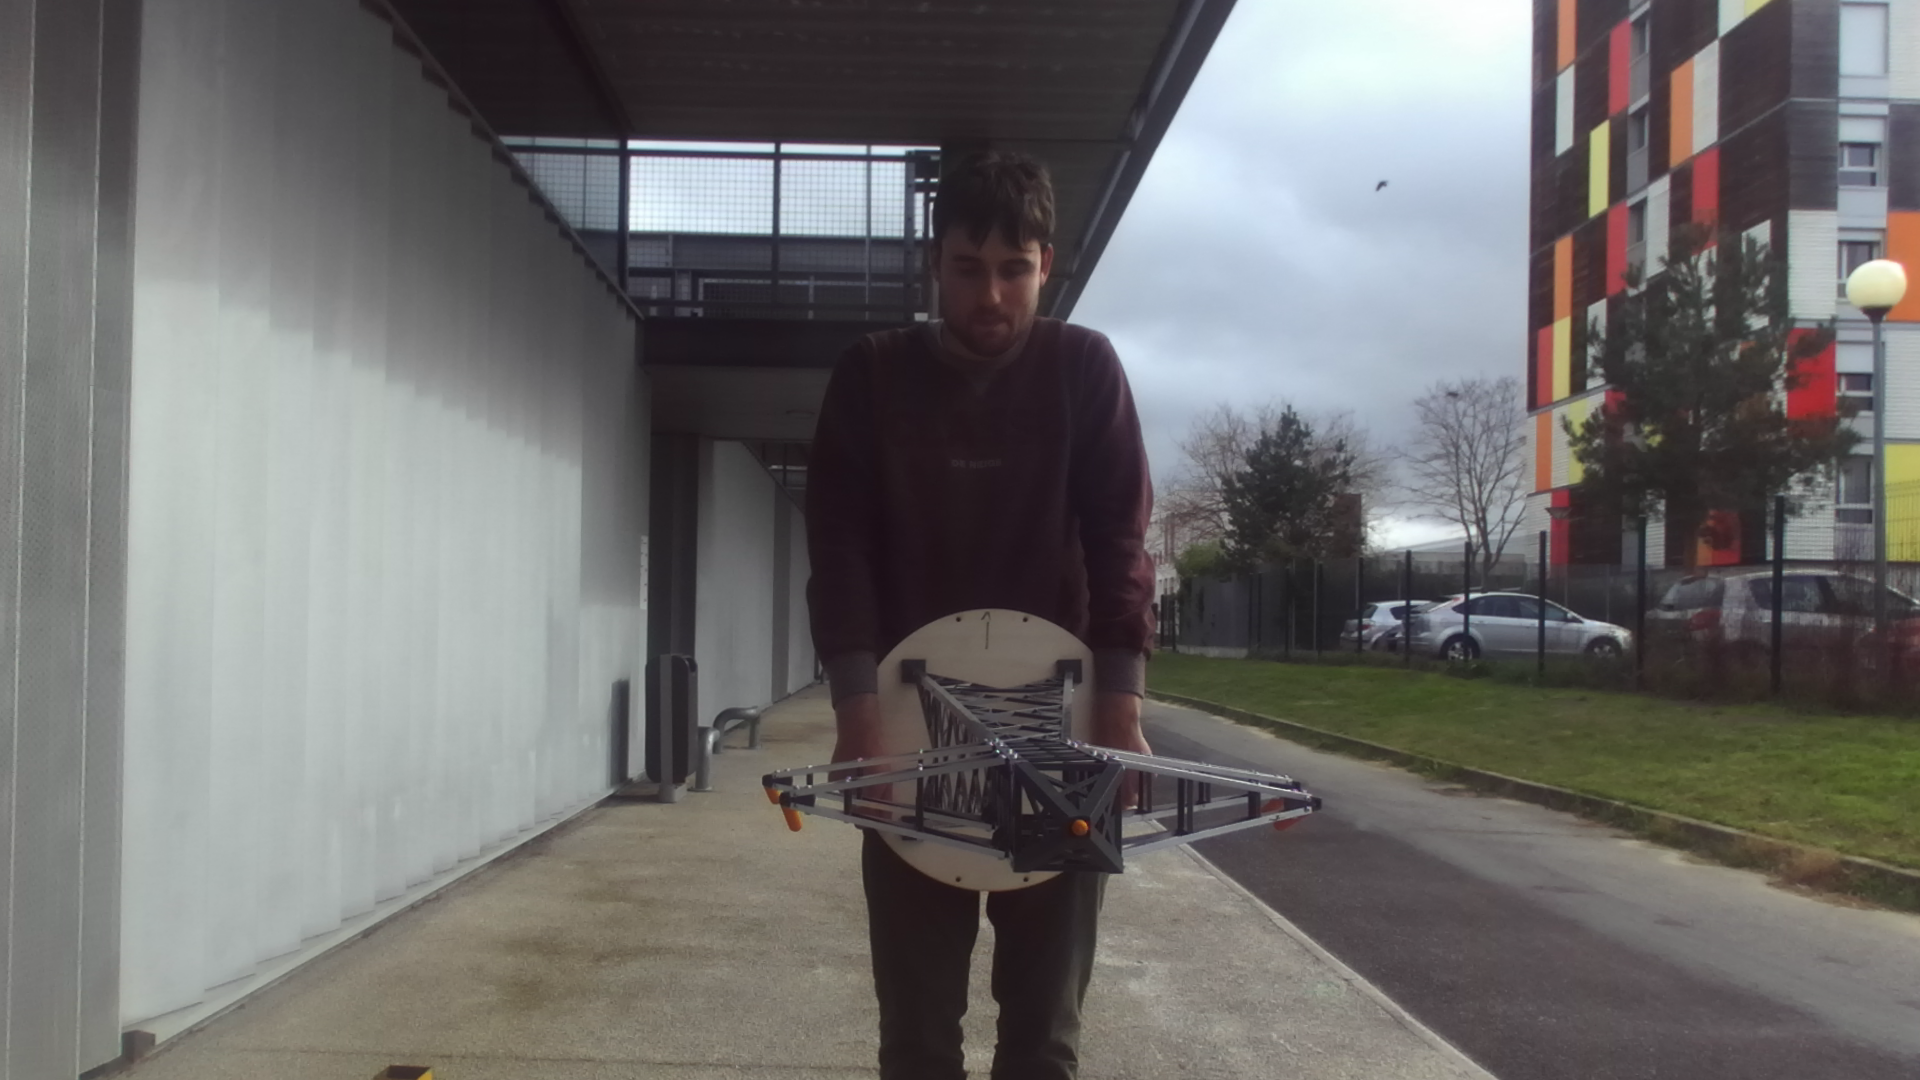pylon_phy: (775, 758, 1325, 874)
